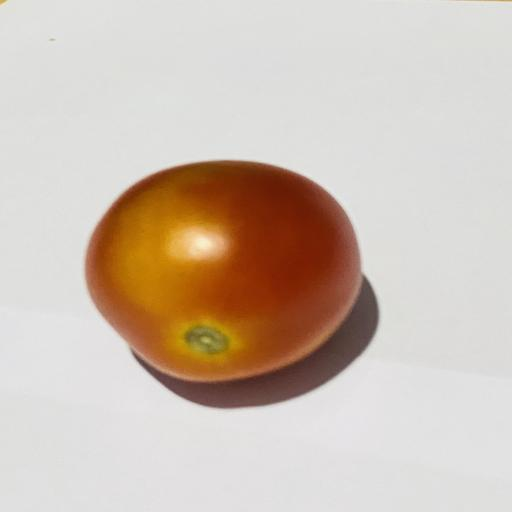ripe: (86, 161, 362, 382)
